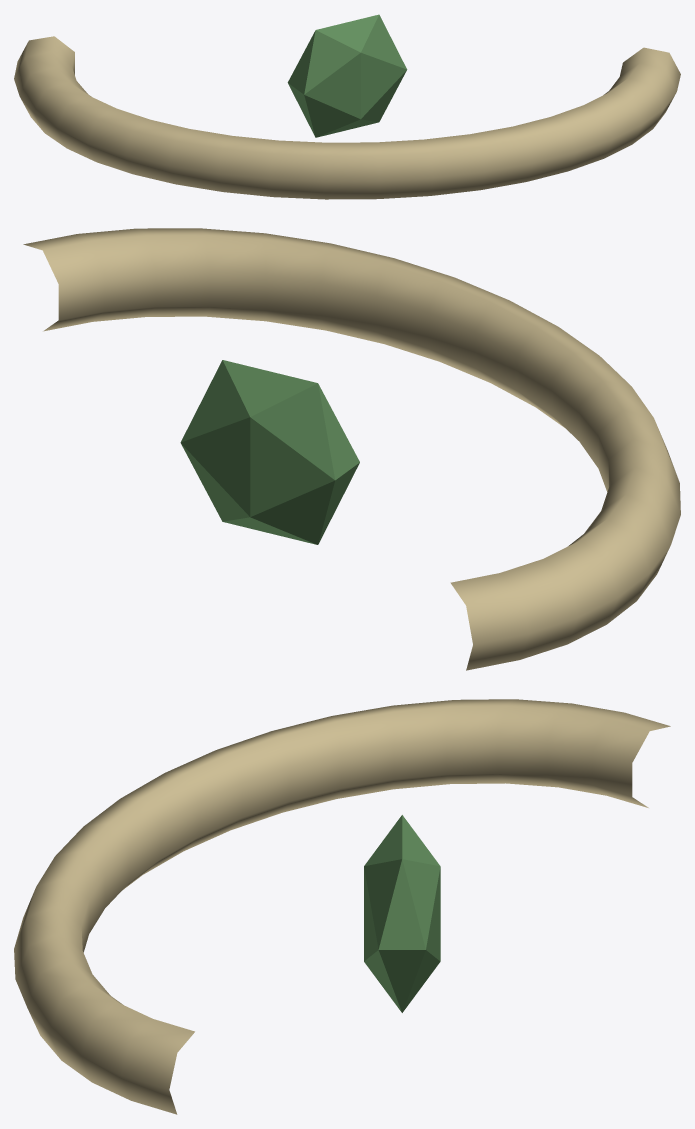
The model's file is wpn_m_04.glb.
3 views of the same model, one above another, from view 1: azimuth 30°, elevation 25°; view 2: azimuth 150°, elevation 25°; view 3: azimuth 270°, elevation 25° (orthographic). The views are drawn at different scales.
Parts seen in each view (by area): view 1: attack_arc, attack_core; view 2: attack_arc, attack_core; view 3: attack_arc, attack_core.
Boxes of the visible parts, x1,y1,x2,y2 form: attack_arc: (14, 36, 680, 199); attack_core: (287, 14, 407, 137); attack_arc: (23, 228, 680, 670); attack_core: (180, 360, 359, 544); attack_arc: (14, 699, 670, 1114); attack_core: (364, 815, 440, 1012).
Bounding box in the file's own units: 1.09 × 0.2144 × 0.8398.
